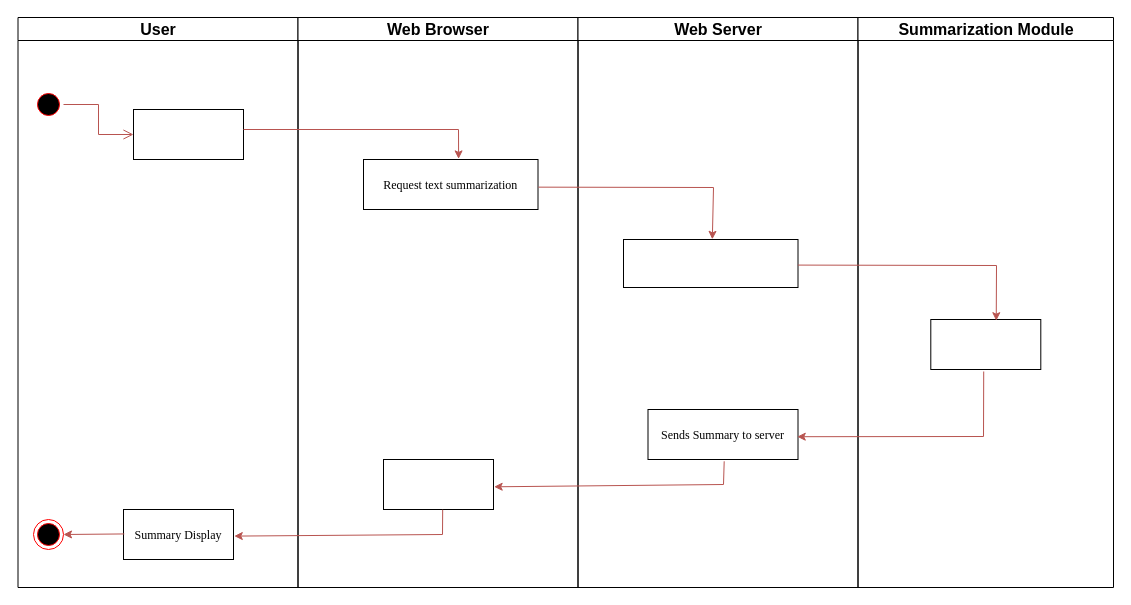
This 1131x605 diagram has some shape labels left out. The shapes that lost their labels are listed below. From the top down, each one's centre as x and y in pixels, then its label:
At point 188,134: "Submits Text".
At point 710,263: "Sends message to summarize the text".
At point 985,344: "Generates Summary".
At point 438,484: "Sends to browser".
